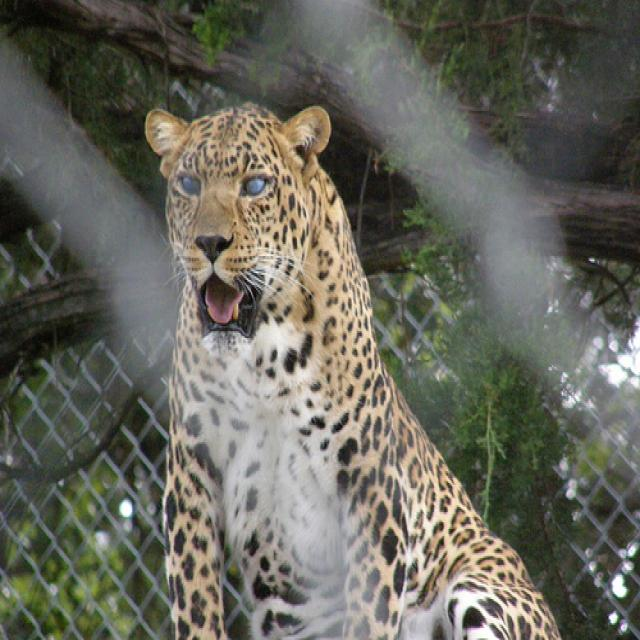Leopard: (139, 103, 562, 636)
